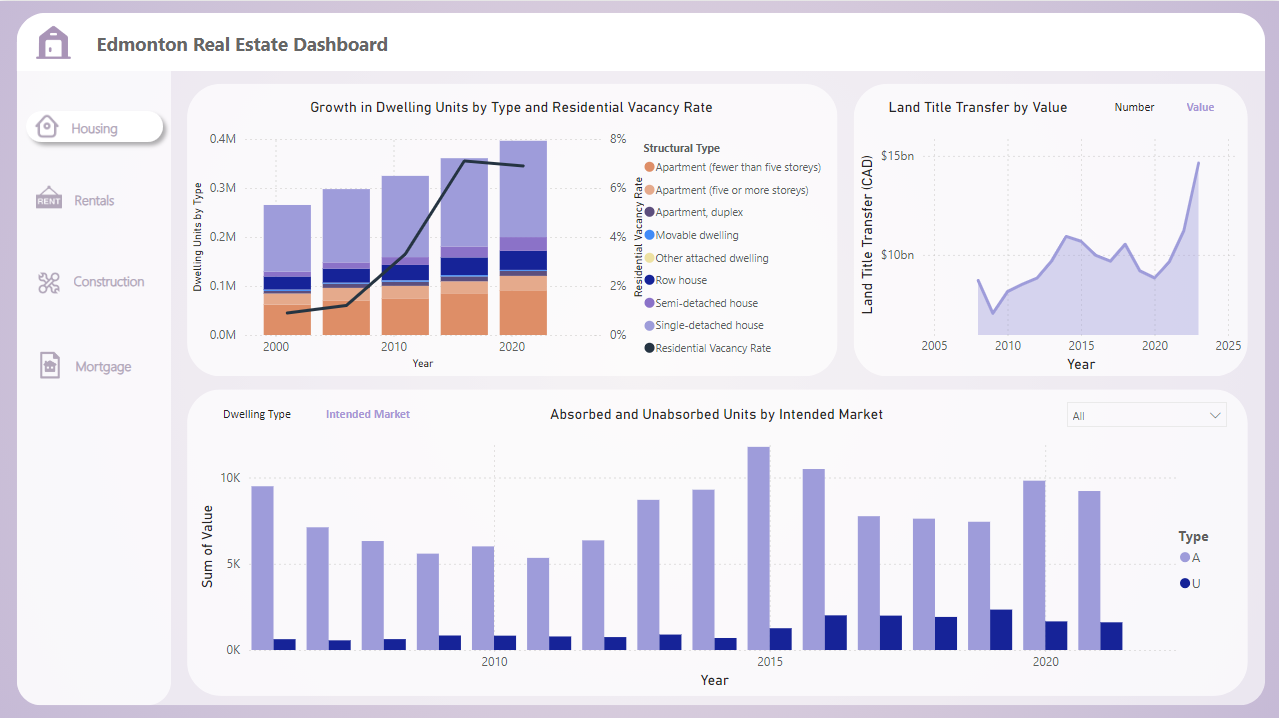

Layout of this report page (visuals, bound fields, positions):
{"tool":"powerbi","page":{"name":"Housing Overview","canvas":[1280,720],"ordinal":0},"visuals":[{"type":"card","title":"Intended Market Title","fields":{"Values":["Key Measures.IntendedMarketTitle"]},"box":[187,396,1059,35],"z":0},{"type":"image","box":[0,16.4,108.2,49.1],"z":2000},{"type":"shape","box":[16.7,100.8,155,49.2],"z":3000},{"type":"image","box":[28.2,95.5,38.2,60],"z":4000},{"type":"image","box":[32.7,265.5,32.7,33.6],"z":5000},{"type":"image","box":[30.9,169.1,36.4,53.6],"z":6000},{"type":"image","box":[27.3,323.6,45.5,80],"z":7000},{"type":"textbox","box":[67.3,112.7,89.1,32.7],"z":8000},{"type":"textbox","box":[70,185.5,90,33.6],"z":9000},{"type":"textbox","box":[69.1,266.4,102.7,32.7],"z":10000},{"type":"textbox","box":[70.9,350.9,90,33.6],"z":11000},{"type":"actionButton","box":[27.3,105.5,129.1,40],"z":12000},{"type":"actionButton","box":[27.3,179.1,129.1,40],"z":13000},{"type":"actionButton","box":[27.3,259.1,129.1,40],"z":14000},{"type":"actionButton","box":[27.3,343.6,129.1,40],"z":15000},{"type":"textbox","box":[91.8,24.5,356.4,40.9],"z":16000},{"type":"lineStackedColumnComboChart","fields":{"Y":["Sum(dwelling_units_by_type.OriginalValue)"],"Series":["dwelling_units_by_type.Structural Type"],"Y2":["Sum(residential_vacancy_rate_by_type.OriginalValue)"],"Category":["YearTable.Value"]},"box":[187.1,124.1,649.1,249.2],"z":17000},{"type":"areaChart","fields":{"Y":["Sum(land_title_transfers_value.OriginalValue)"],"Category":["land_title_transfers_number.Period"]},"box":[854.3,121.4,392.1,255],"z":20000},{"type":"clusteredColumnChart","title":"Units Absorbed and Unabsorbed Intended Market","fields":{"Category":["intended-market-province-level.date"],"Y":["Sum(intended-market-province-level.Value)"],"Series":["intended-market-province-level.Type"]},"box":[194,428,1040,264],"z":22000},{"type":"slicer","title":"Intended Market Slicer","fields":{"Values":["intended-market-province-level.Intented Market Type"]},"box":[1057,391,180,48],"z":23000},{"type":"card","fields":{"Values":["Key Measures.HousingTitle"]},"box":[187,89,649,35],"z":24000},{"type":"card","title":"Land Title Transfer by Value","fields":{"Values":["Key Measures.LandTitleTransferTitle"]},"box":[849.5,88.7,258,35.5],"z":25000},{"type":"advancedSlicerVisual","fields":{"Values":["SwitchLandTitleTransfer.Land Title Transfer Option"]},"box":[1101.4,86.9,134.8,33.7],"z":26000},{"type":"actionButton","title":"Number Button","box":[1101.4,93.1,66.5,27.5],"z":27000},{"type":"actionButton","title":"Value Button","box":[1168,94,69.2,27.5],"z":28000},{"type":"advancedSlicerVisual","fields":{"Values":["SwitchDwellingType/Market.Units Option"]},"box":[201,394,224,34],"z":30000},{"type":"actionButton","title":"Dwelling Type Button","box":[212,400,90,28],"z":31000},{"type":"actionButton","title":"Intended Market Button","box":[318,400,98,28],"z":32000}]}

Visuals, with their boxes in screenshot pixels (x1, y1, x2, y2), scaled from the page's 1280x720 canvas onto the 1279x718 screenshot:
"Intended Market Title" card: box=[187, 395, 1245, 430]
image: box=[0, 16, 108, 65]
shape: box=[17, 101, 172, 150]
image: box=[28, 95, 66, 155]
image: box=[33, 265, 65, 298]
image: box=[31, 169, 67, 222]
image: box=[27, 323, 73, 402]
textbox: box=[67, 112, 156, 145]
textbox: box=[70, 185, 160, 218]
textbox: box=[69, 266, 172, 298]
textbox: box=[71, 350, 161, 383]
actionButton: box=[27, 105, 156, 145]
actionButton: box=[27, 179, 156, 218]
actionButton: box=[27, 258, 156, 298]
actionButton: box=[27, 343, 156, 383]
textbox: box=[92, 24, 448, 65]
lineStackedColumnComboChart - Sum(dwelling_units_by_type.OriginalValue) x dwelling_units_by_type.Structural Type: box=[187, 124, 836, 372]
areaChart - Sum(land_title_transfers_value.OriginalValue) x land_title_transfers_number.Period: box=[854, 121, 1245, 375]
"Units Absorbed and Unabsorbed Intended Market" clusteredColumnChart: box=[194, 427, 1233, 690]
"Intended Market Slicer" slicer: box=[1056, 390, 1236, 438]
card - Key Measures.HousingTitle: box=[187, 89, 835, 124]
"Land Title Transfer by Value" card: box=[849, 88, 1107, 124]
advancedSlicerVisual - SwitchLandTitleTransfer.Land Title Transfer Option: box=[1101, 87, 1235, 120]
"Number Button" actionButton: box=[1101, 93, 1167, 120]
"Value Button" actionButton: box=[1167, 94, 1236, 121]
advancedSlicerVisual - SwitchDwellingType/Market.Units Option: box=[201, 393, 425, 427]
"Dwelling Type Button" actionButton: box=[212, 399, 302, 427]
"Intended Market Button" actionButton: box=[318, 399, 416, 427]
